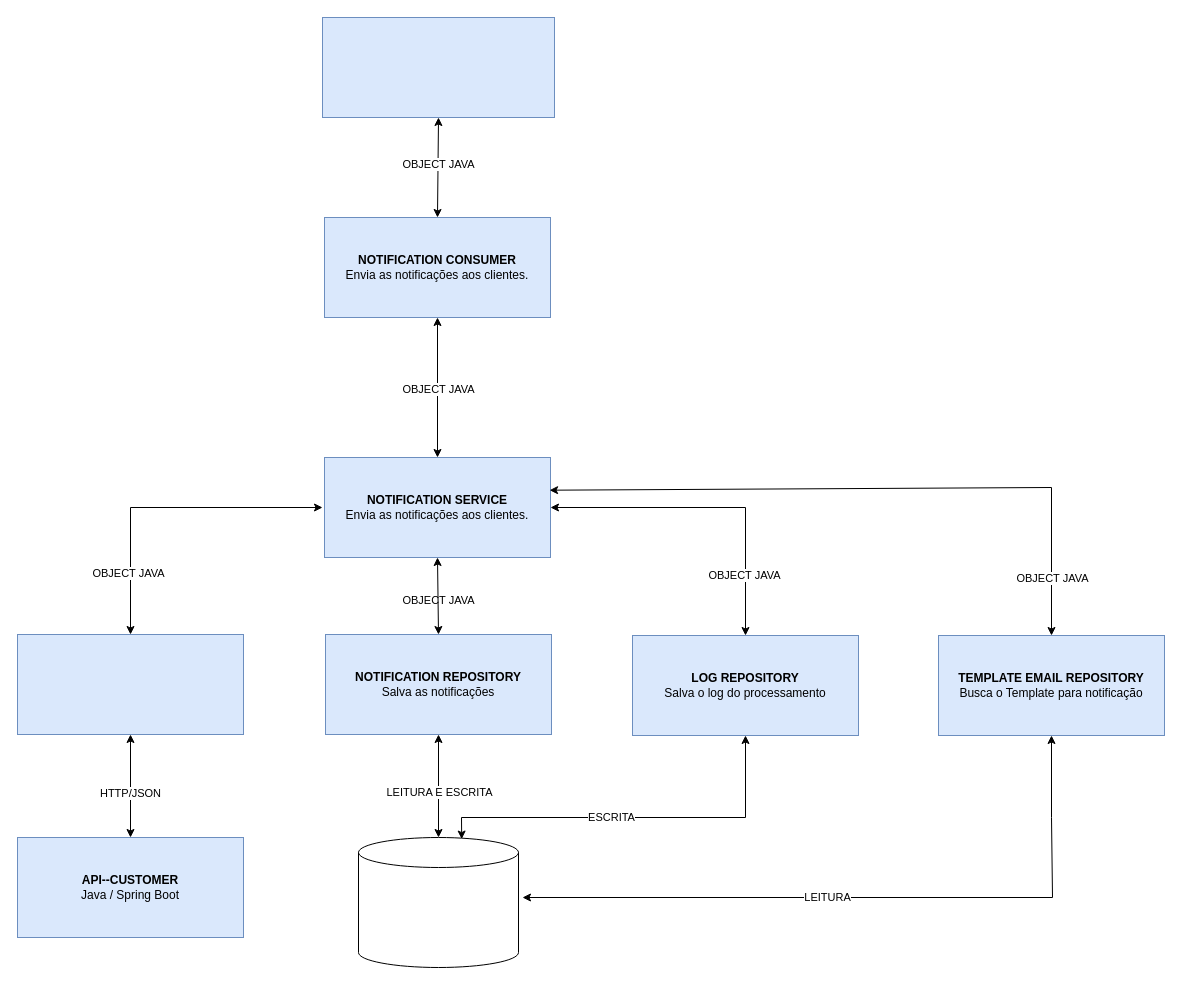
This 1182x985 diagram has some shape labels left out. The shapes that lost their labels are listed below. From the top down, each one's centre as x and y in pixels, then its label:
At pixel 438 67: "SERVICE--NOTIFICATION Java / Spring Boot".
At pixel 130 684: "CUSTOMER REPOSITORY Busca as informações do Cliente".
At pixel 438 902: "NOTIFICATION DB".
